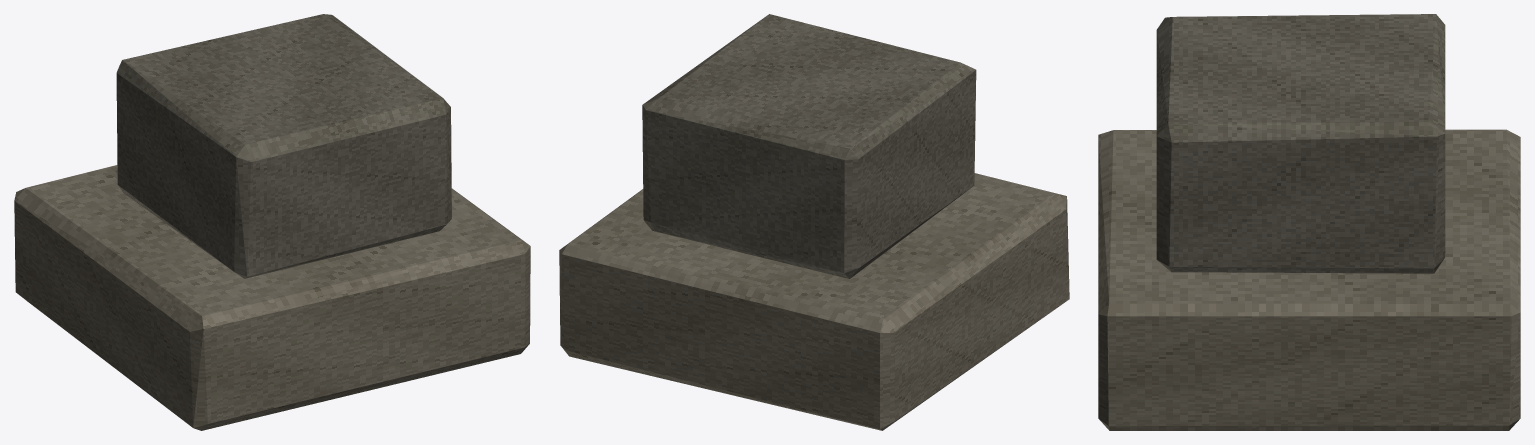
Rendered from env_ruin_pillars_03_square_stump.glb.
The picture shows the model from 3 angles, left to right: view 1: azimuth 30°, elevation 25°; view 2: azimuth 150°, elevation 25°; view 3: azimuth 270°, elevation 25°; orthographic projection. The views are drawn at different scales.
Bounding box in the file's own units: 0.62 × 0.437 × 0.6.
Materials: 1 (1 with a texture image).
